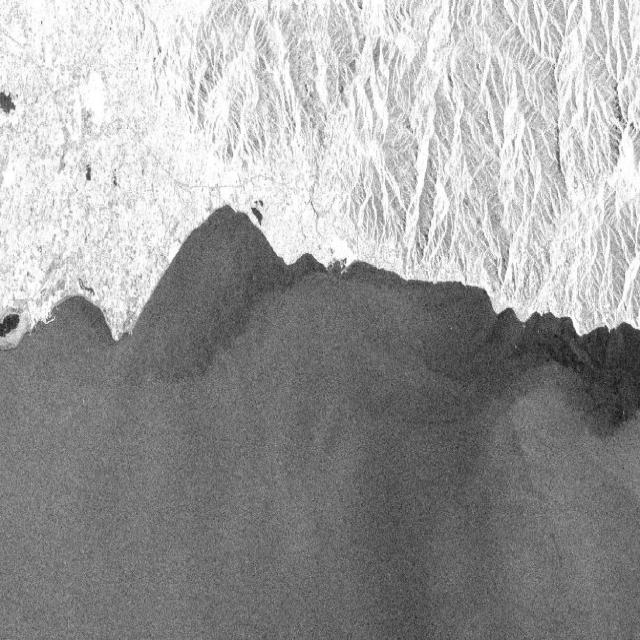look-alike: (528, 324, 640, 444)
